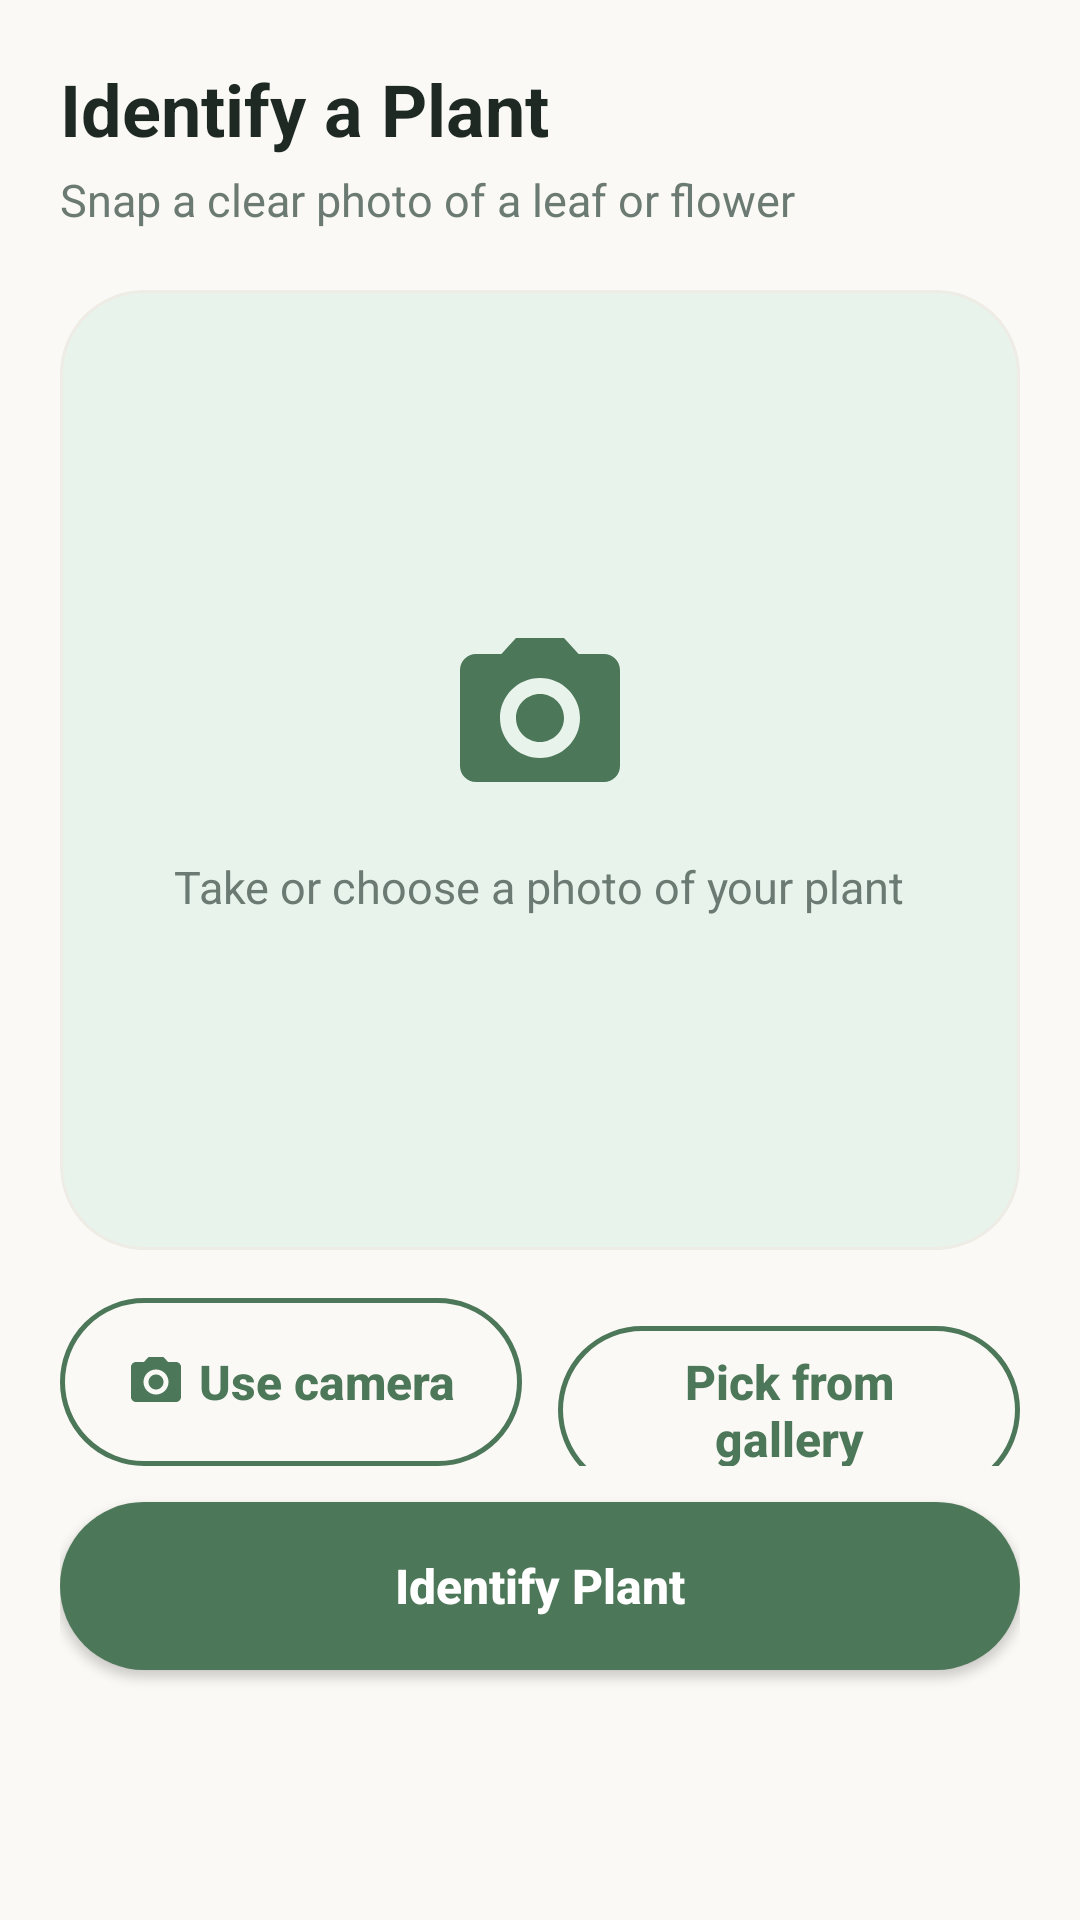

Icon bounding boxes for this 1080x1920 phone screenshot, format (x1, y1, x2, y2):
camera: (460, 638, 620, 782)
